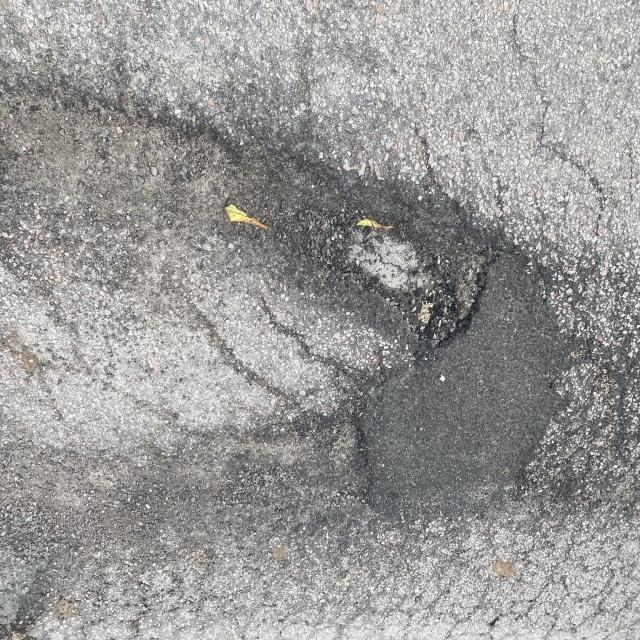Pothole: (0, 46, 555, 382)
